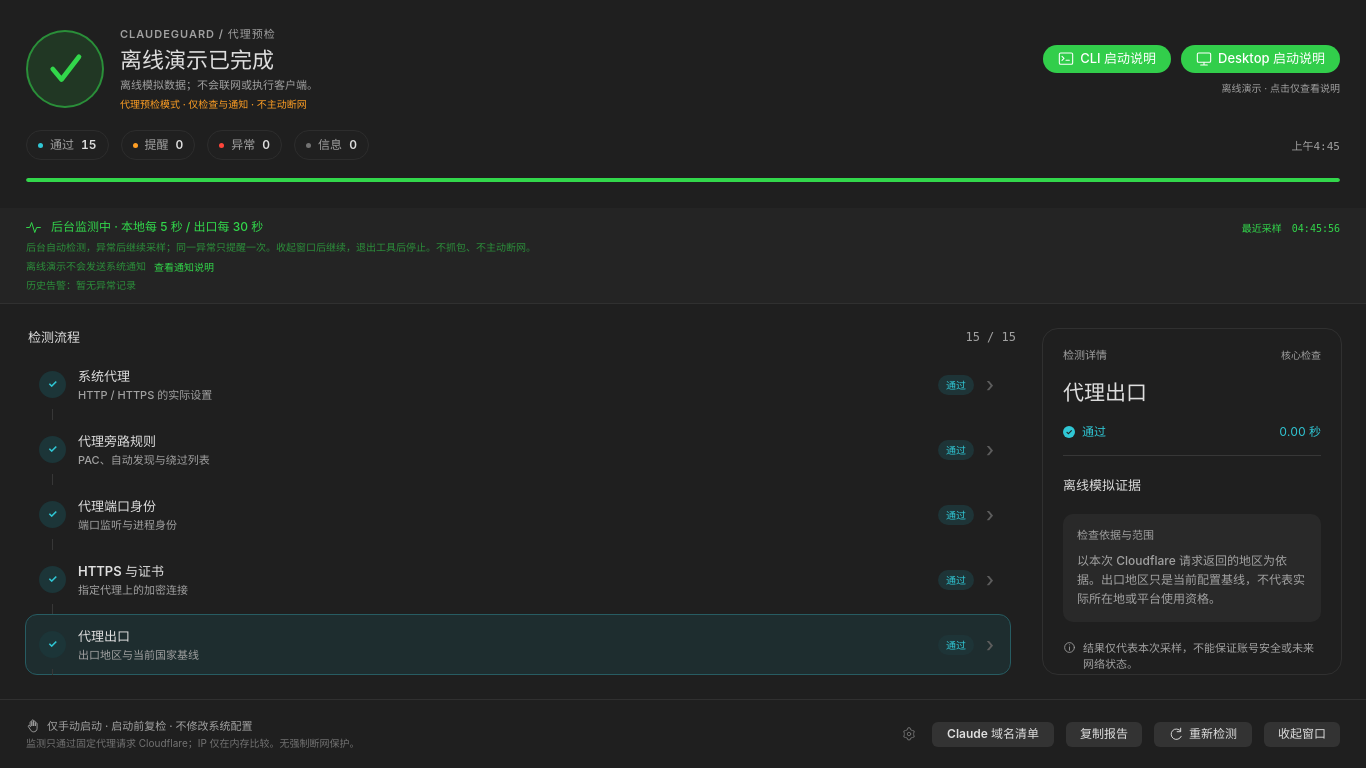
reports clipboard failure instead of leaving a silent button
This screenshot has width=1366, height=768.
Expected: the heading "离线演示已完成" is shown, x1=120 y1=47 x2=274 y2=73
Click the button "复制报告": [1104, 734] box x1=1066 y1=722 x2=1142 y2=746
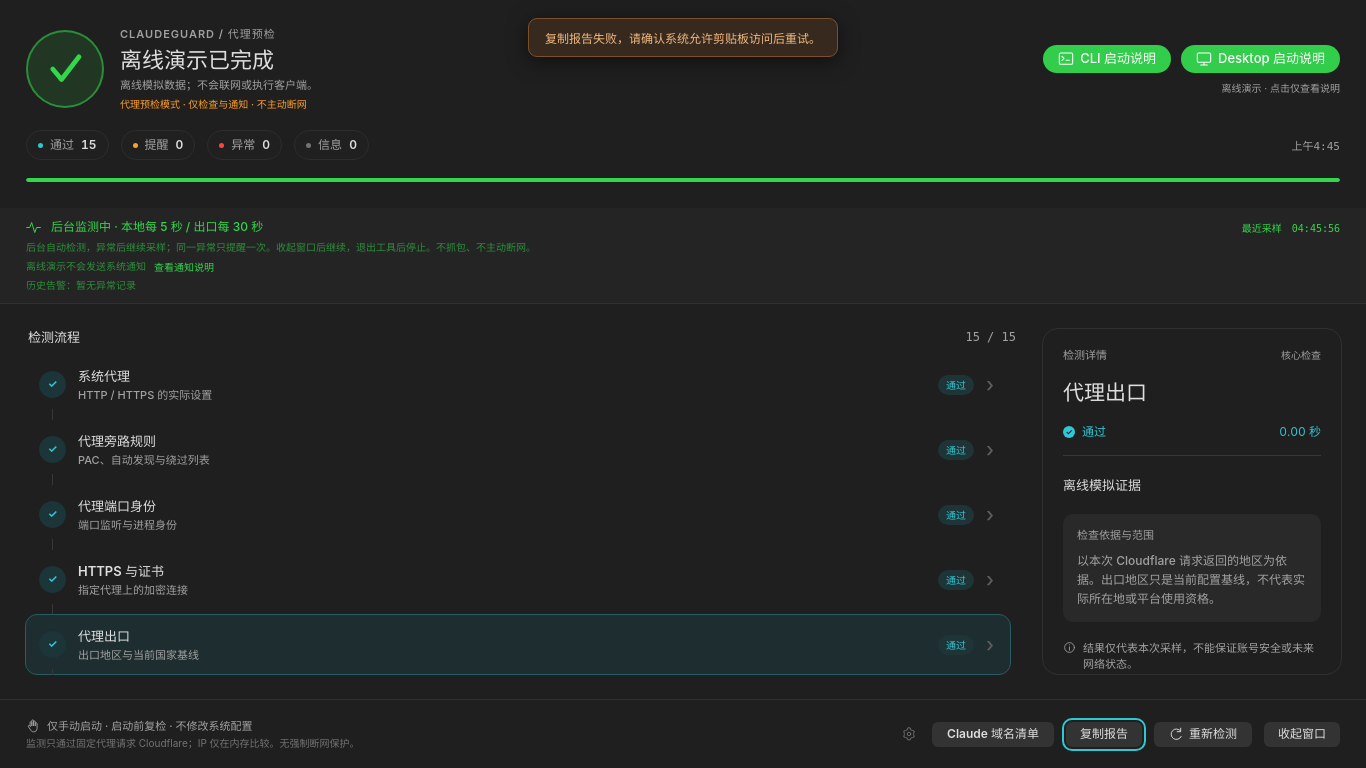
Expected: the message shows "复制报告失败", x1=545 y1=31 x2=821 y2=46
